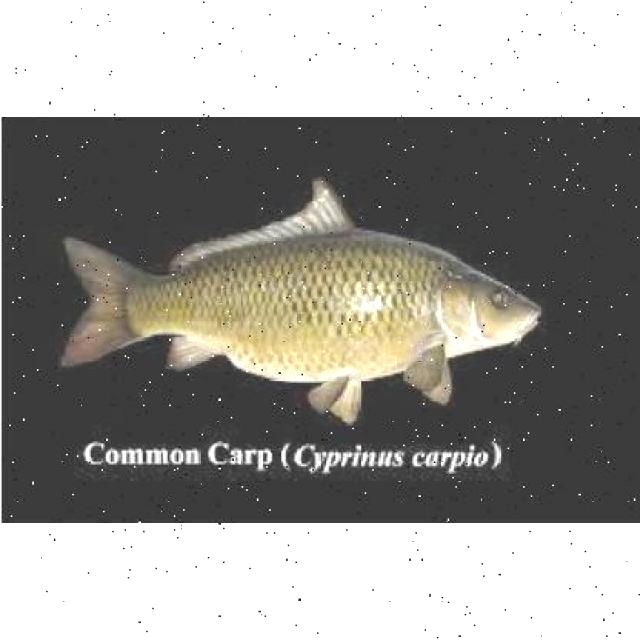ikan-mas: (61, 210, 542, 406)
